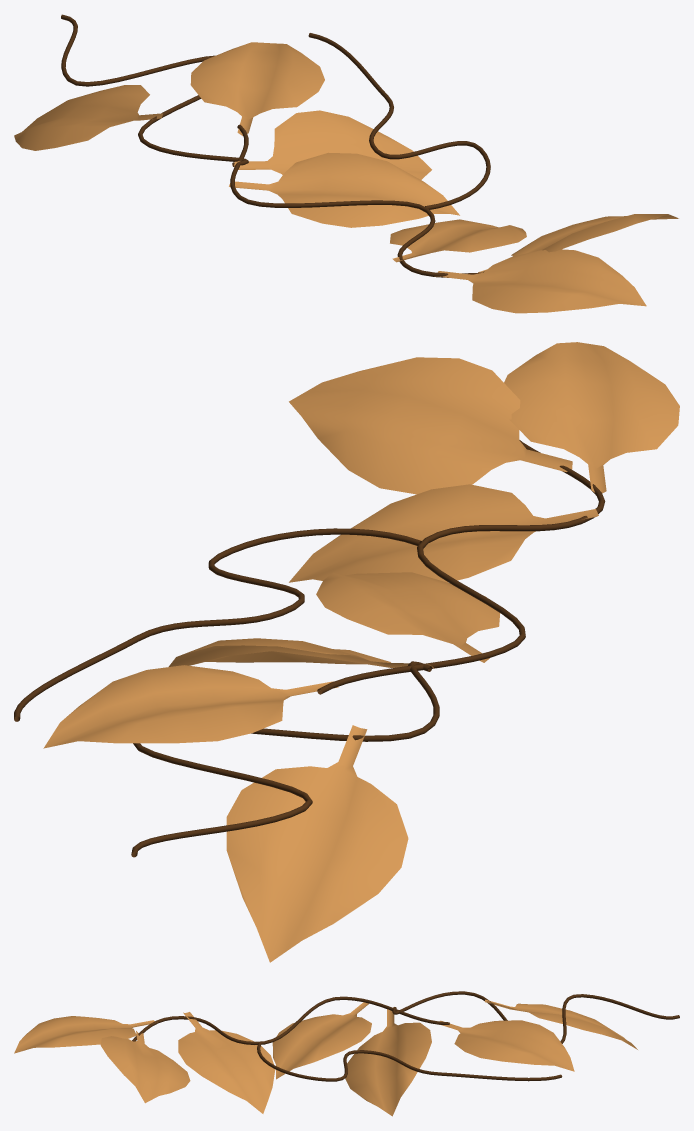
The model's file is light_brown_vines_short.fbx.
The picture shows the model from 3 angles, top to bottom: view 1: azimuth 30°, elevation 25°; view 2: azimuth 150°, elevation 25°; view 3: azimuth 270°, elevation 25°; orthographic projection. The views are drawn at different scales.
Visible parts, largest first — view 1: Vine7.001; view 2: Vine7.001; view 3: Vine7.001.
Part boxes in pixels (x1,y1,x2,y2): Vine7.001: (14, 14, 678, 313); Vine7.001: (14, 342, 679, 962); Vine7.001: (14, 991, 679, 1116).
Bounding box in the file's own units: 734 × 230 × 1595.
